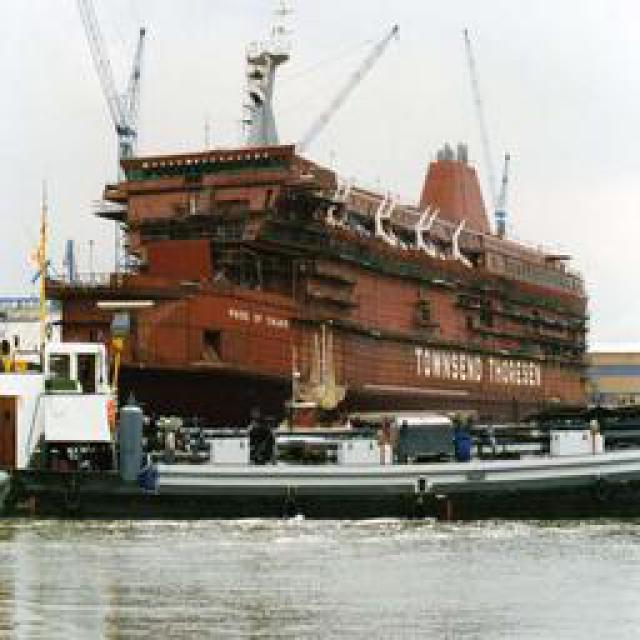Ship: (61, 418, 640, 519)
